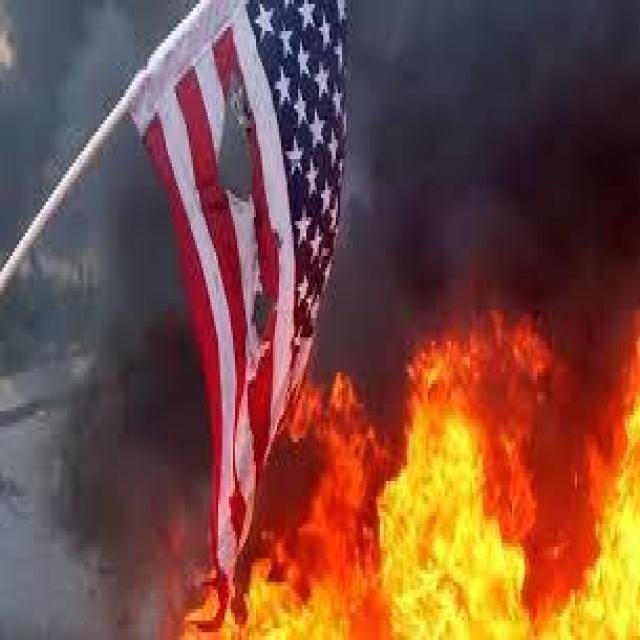Fire: (185, 328, 640, 640)
Smoke: (356, 2, 640, 310), (52, 295, 186, 640)
